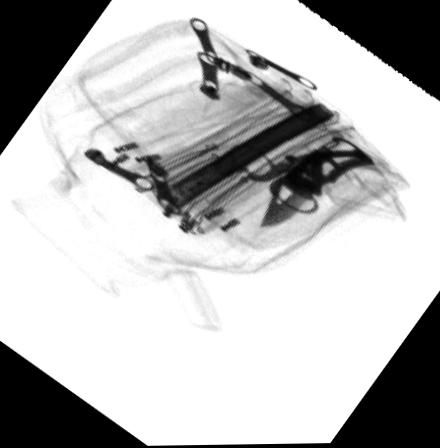Knife: (257, 136, 374, 226)
Scissors: (231, 138, 336, 215)
